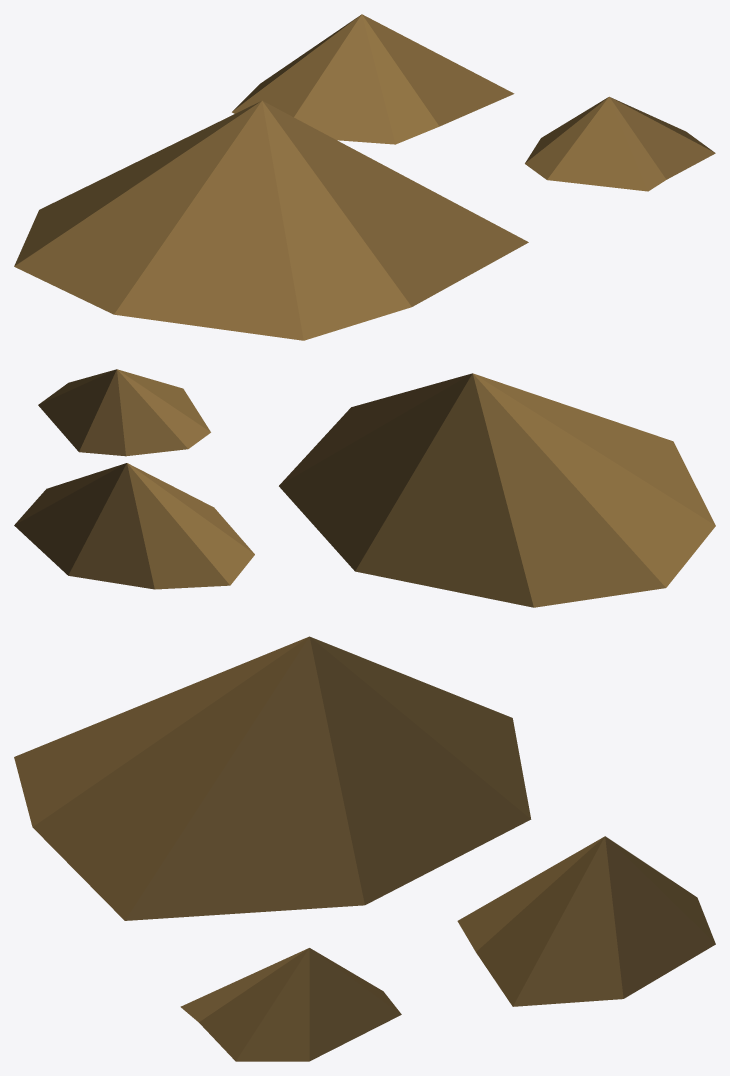
The model's file is clay.obj.
3 views of the same model, one above another, from view 1: azimuth 30°, elevation 25°; view 2: azimuth 150°, elevation 25°; view 3: azimuth 270°, elevation 25° (orthographic). The views are drawn at different scales.
Parts seen in each view (by area): view 1: Item Clay 2026-09-24_19-55-09; view 2: Item Clay 2026-09-24_19-55-09; view 3: Item Clay 2026-09-24_19-55-09.
Part boxes in pixels (x1,y1,x2,y2): Item Clay 2026-09-24_19-55-09: (14,14,715,340); Item Clay 2026-09-24_19-55-09: (14,369,715,607); Item Clay 2026-09-24_19-55-09: (14,636,715,1061).
Bounding box in the file's own units: 50 × 10 × 38.
